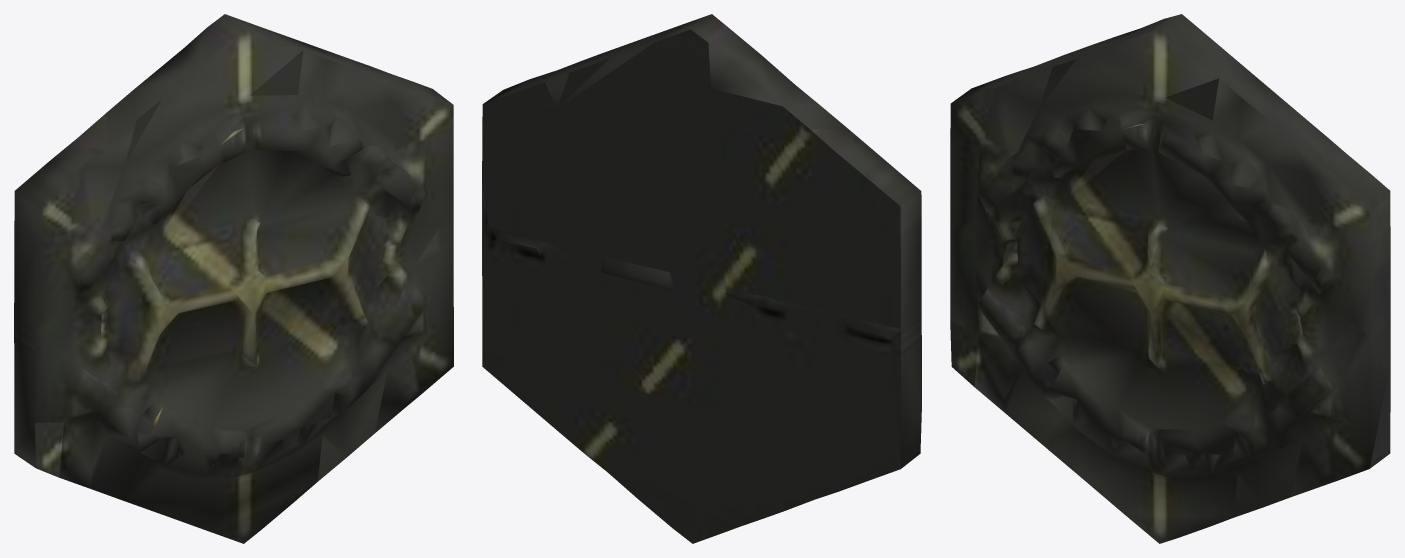
Rendered from prop_road_surface.glb.
3 renders of one model, left to right at view 1: azimuth 30°, elevation 25°; view 2: azimuth 150°, elevation 25°; view 3: azimuth 330°, elevation 25°, orthographic.
Parts seen in each view (by area): view 1: Mesh_0; view 2: Mesh_0; view 3: Mesh_0.
Part boxes in pixels (x1,y1,x2,y2): Mesh_0: [14, 14, 453, 543]; Mesh_0: [482, 14, 921, 543]; Mesh_0: [950, 14, 1390, 543].
Bounding box in the file's own units: 1.7 × 2 × 0.2296.
1 material, 1 textured.
